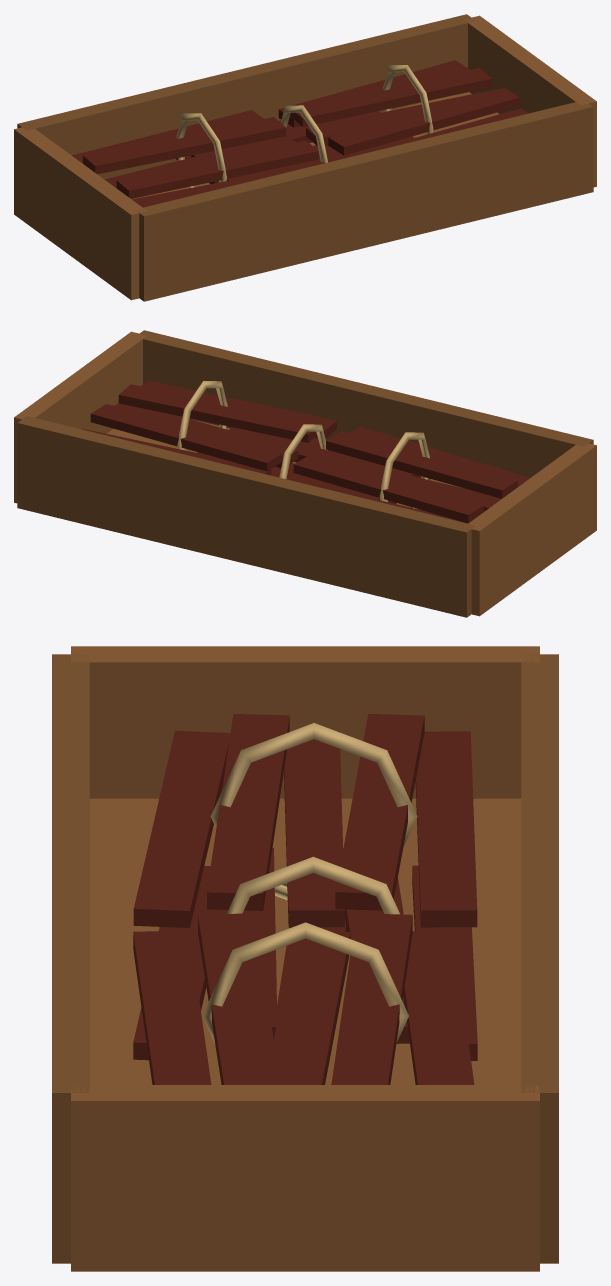
File: Proc_Jerky.fbx
The picture shows the model from 3 angles, top to bottom: view 1: azimuth 30°, elevation 25°; view 2: azimuth 150°, elevation 25°; view 3: azimuth 270°, elevation 25°; orthographic projection. The views are drawn at different scales.
Visible parts, largest first — view 1: Proc_Jerky__Stack, Proc_Jerky; view 2: Proc_Jerky__Stack, Proc_Jerky; view 3: Proc_Jerky__Stack, Proc_Jerky.
Boxes of the visible parts, x1,y1,x2,y2 form: Proc_Jerky__Stack: (14,14,596,301); Proc_Jerky: (176,105,414,184); Proc_Jerky__Stack: (14,330,596,617); Proc_Jerky: (197,424,430,503); Proc_Jerky__Stack: (52,646,558,1271); Proc_Jerky: (133,848,477,1060).
Size of the model in its own units: 0.2287 by 0.052 by 0.1077.
